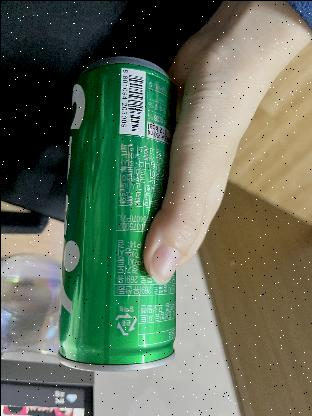Can: (58, 55, 178, 370)
